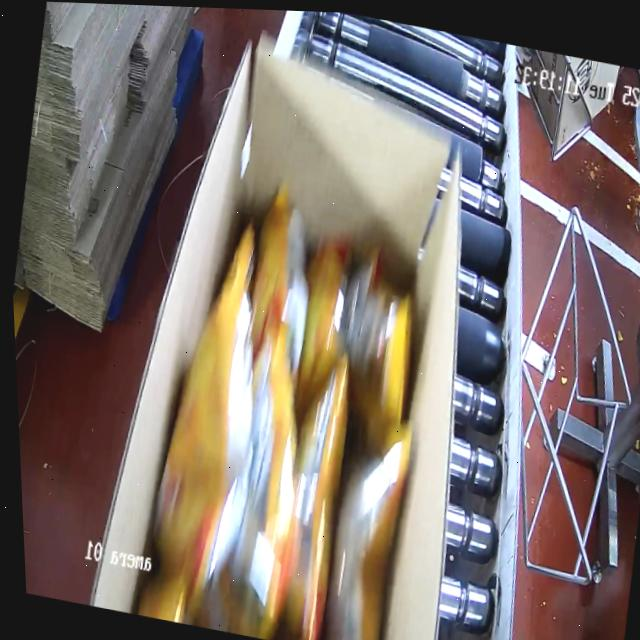FRENCH_CHEESE: (140, 168, 454, 640)
